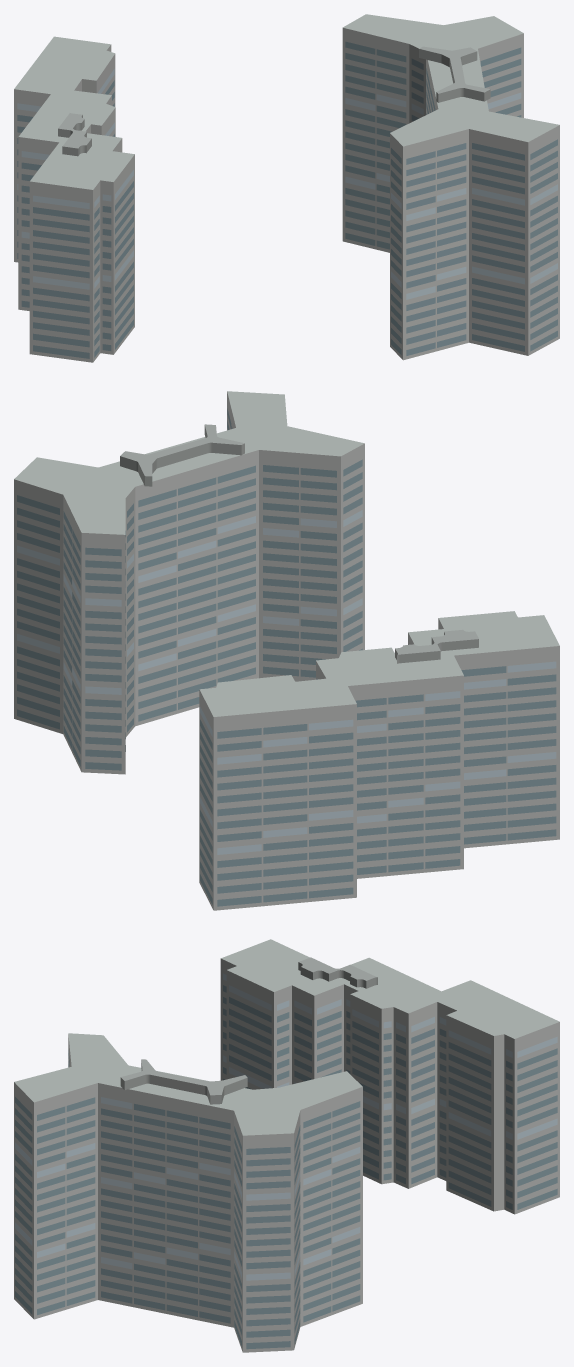
File: apt-a13986702.glb
3 renders of one model, top to bottom at view 1: azimuth 30°, elevation 25°; view 2: azimuth 150°, elevation 25°; view 3: azimuth 270°, elevation 25°, orthographic. The views are drawn at different scales.
Visible parts, largest first — view 1: apt-a13986702; view 2: apt-a13986702; view 3: apt-a13986702.
Boxes of the visible parts, x1,y1,x2,y2 form: apt-a13986702: (14,14,559,362); apt-a13986702: (14,391,559,910); apt-a13986702: (14,939,559,1352).
Bounding box in the file's own units: 133 × 59 × 129.
